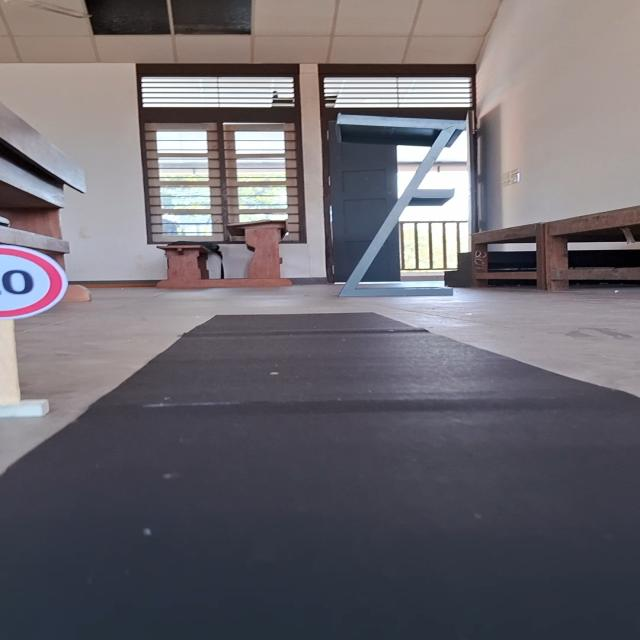Reject: (0, 240, 72, 324)
